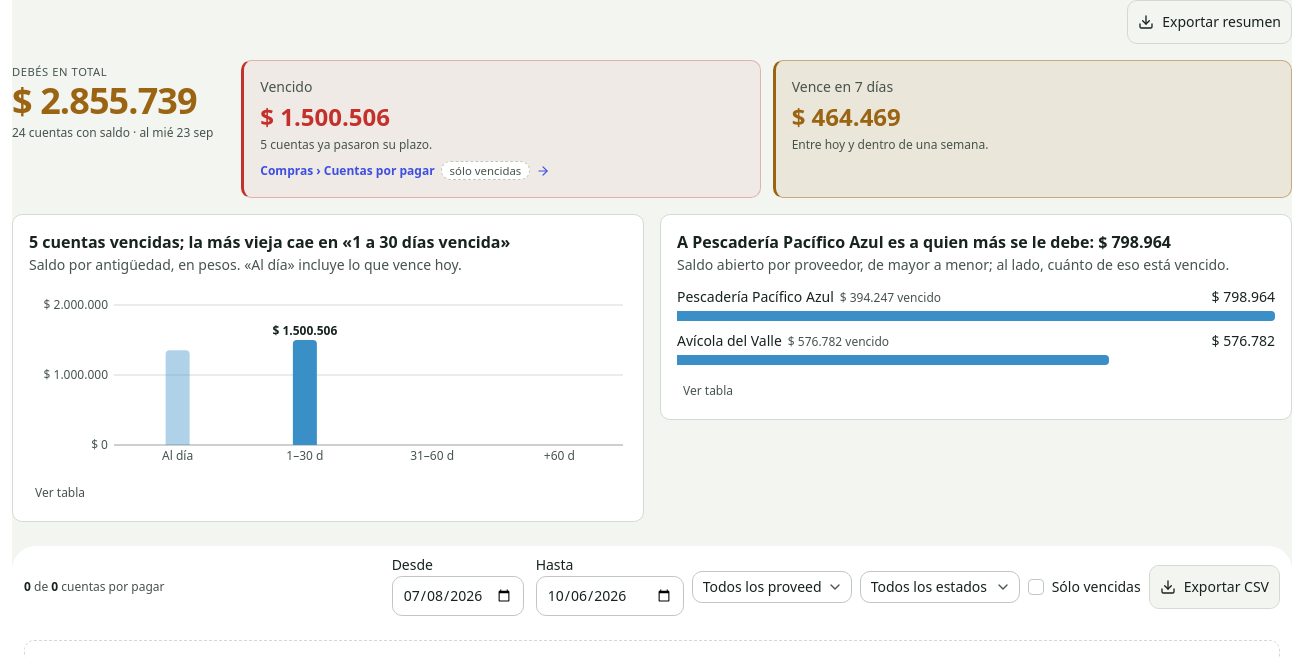
Test: PayablesTab — cuánto se debe, arriba y con cifras del servidor (informe #8) › la antigüedad tiene su tabla gemela con los cuatro tramos, aunque estén en cero
Expected: the element with test id "payables-headline" is shown, [12,64,213,141]
What coordinates should you click on to do the following:
click the button "Ver tabla" below "1–30 d"
I would click on:
 (60, 493)
Its box is [29,481,91,505].
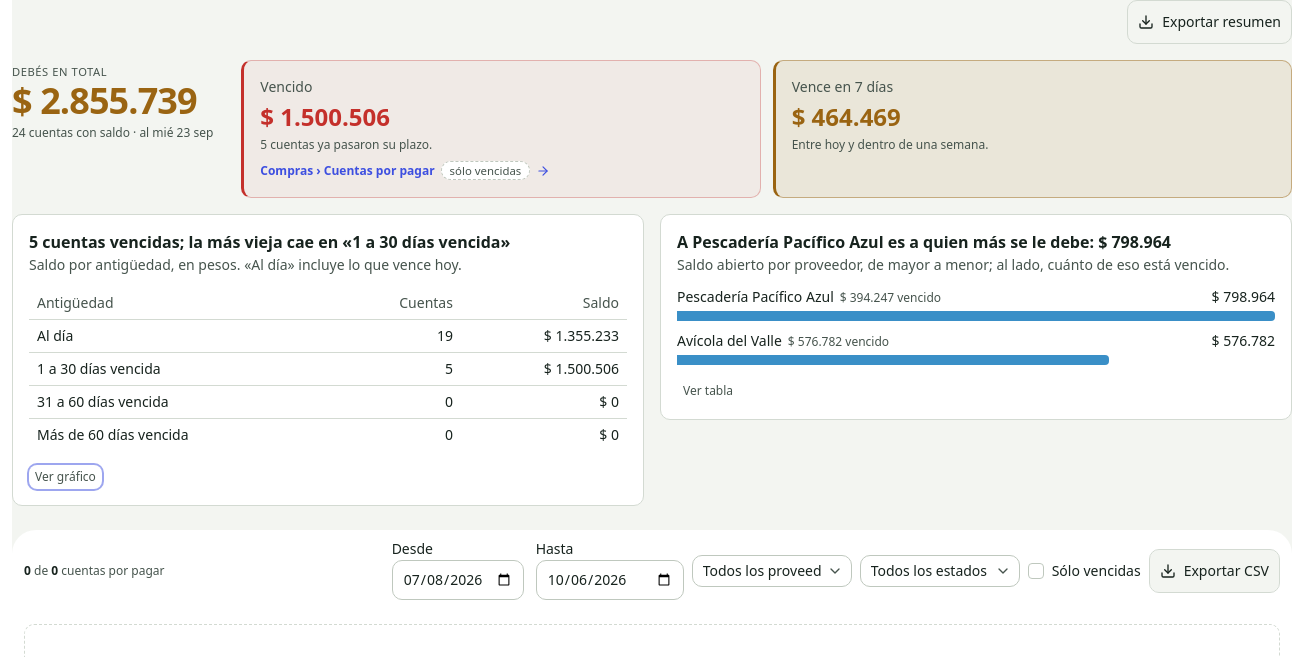
Now the text "Al día" shows "$ 1.355.233", box [544,326,619,345]
Now the text "Más de 60 días vencida" shows "$ 0", box [599,425,619,444]
